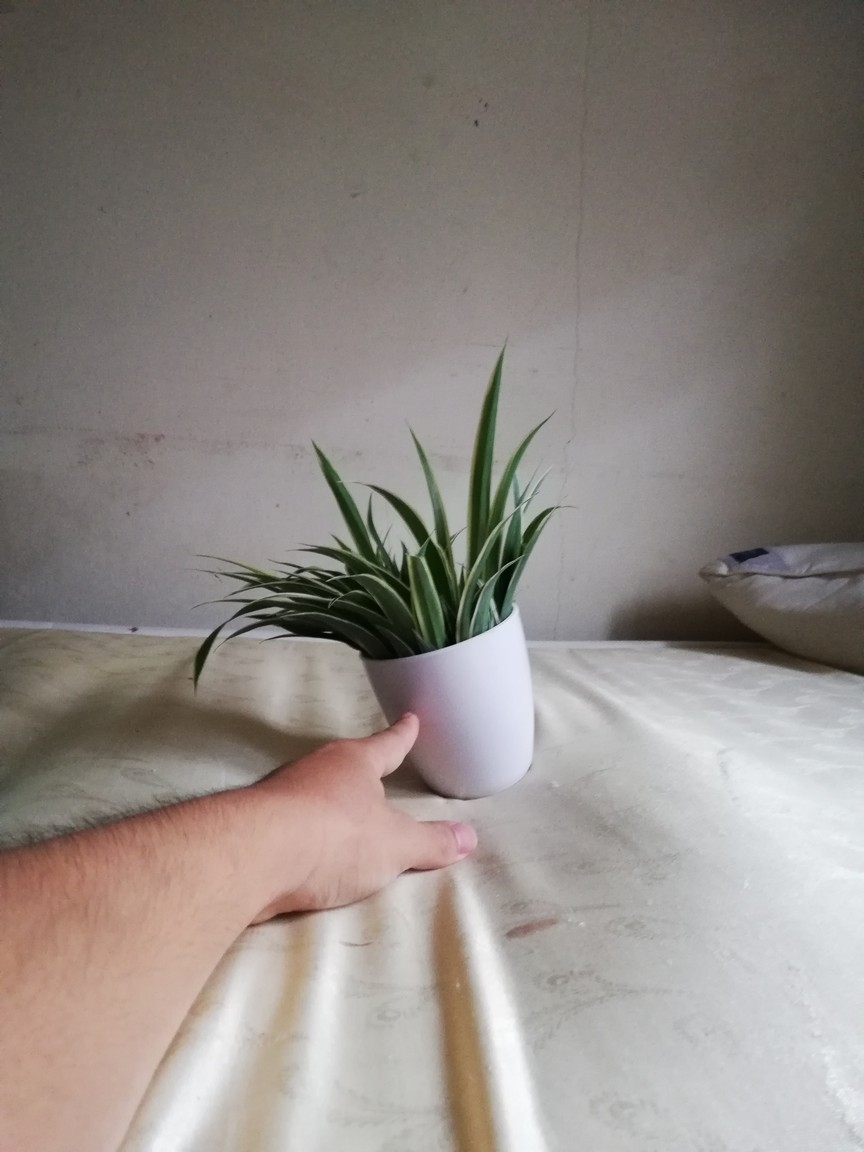daun: (469, 332, 509, 464), (308, 436, 363, 529), (472, 552, 526, 634), (336, 477, 415, 522), (406, 416, 445, 503), (524, 505, 585, 551), (511, 409, 557, 461), (494, 496, 543, 541), (214, 620, 263, 656), (525, 467, 564, 512), (194, 628, 214, 697), (192, 550, 260, 569), (186, 565, 248, 583), (223, 581, 271, 599), (286, 548, 347, 562), (190, 598, 257, 610), (261, 634, 322, 647), (416, 526, 438, 560), (328, 588, 360, 610), (265, 556, 304, 572), (327, 528, 352, 550), (398, 539, 413, 574), (453, 558, 467, 592), (378, 522, 397, 547), (366, 489, 376, 532), (241, 613, 274, 625), (293, 541, 328, 551), (390, 550, 399, 572)
